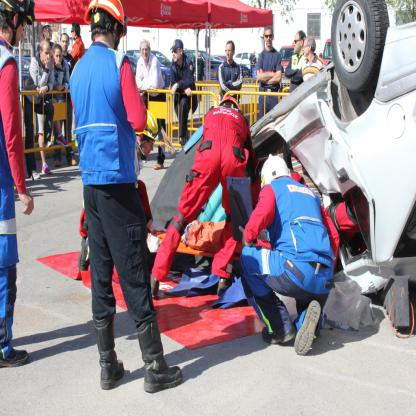car: (247, 0, 415, 304)
person: (68, 0, 185, 395), (149, 92, 257, 299), (238, 153, 340, 355), (3, 0, 36, 371), (23, 20, 85, 176), (134, 41, 167, 164), (166, 40, 200, 144), (251, 25, 281, 121), (216, 40, 244, 104), (280, 30, 304, 92), (304, 41, 321, 83)
